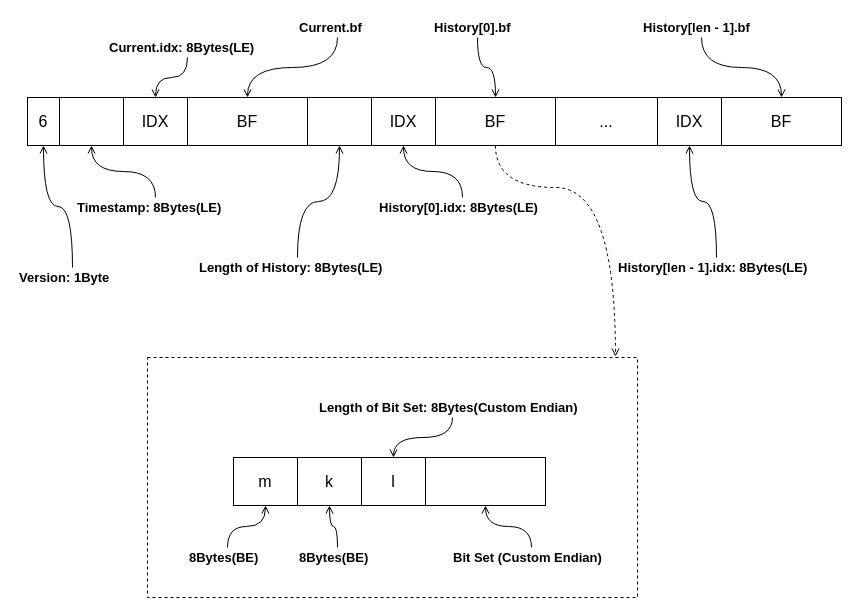
Image size: 859x615. Some labels were removed from this diagram. Each missing label, with the centre of its shape:
"bit set" goes at point (485, 481).
"HL" goes at point (339, 121).
"TS" goes at point (91, 121).
